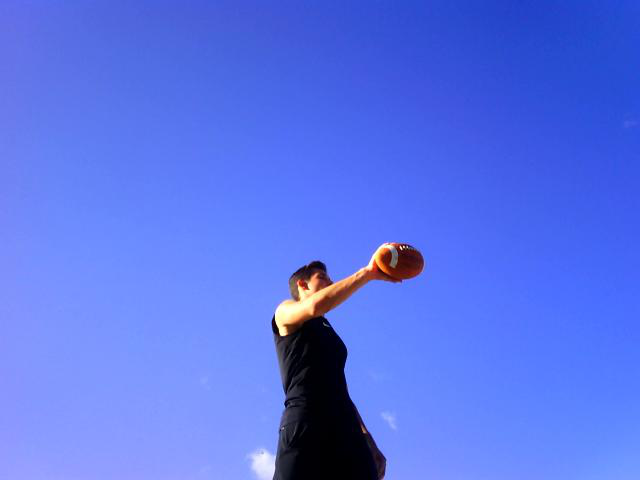football: (374, 241, 426, 281)
